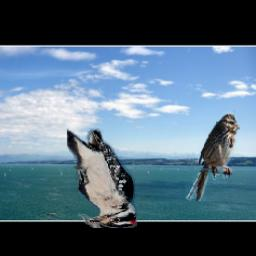Sparrow: (186, 112, 240, 202)
Woodpecker: (68, 128, 138, 228)
